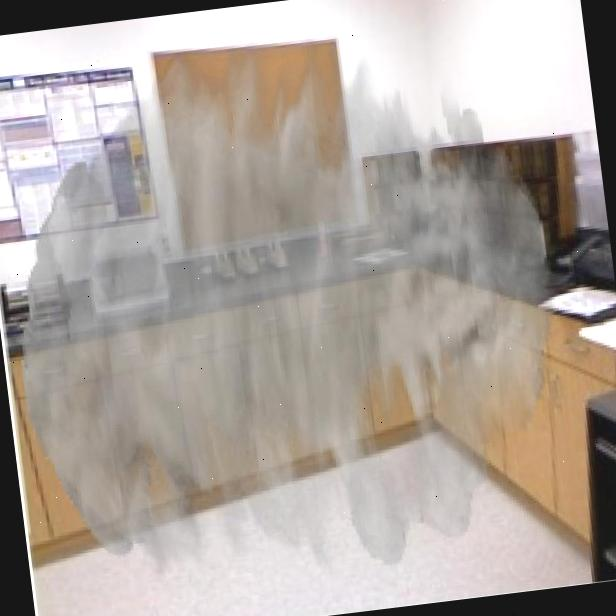smoke: (0, 8, 585, 609)
